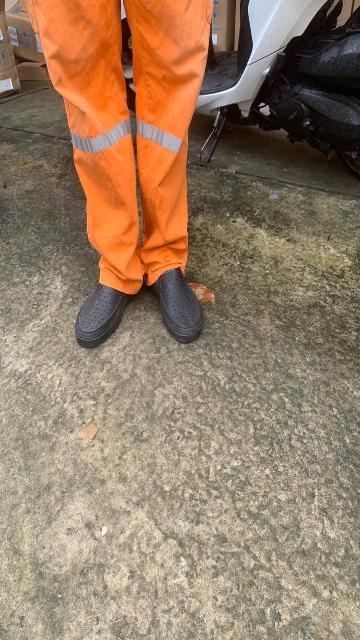shoes: (72, 272, 142, 363), (148, 259, 214, 346)
